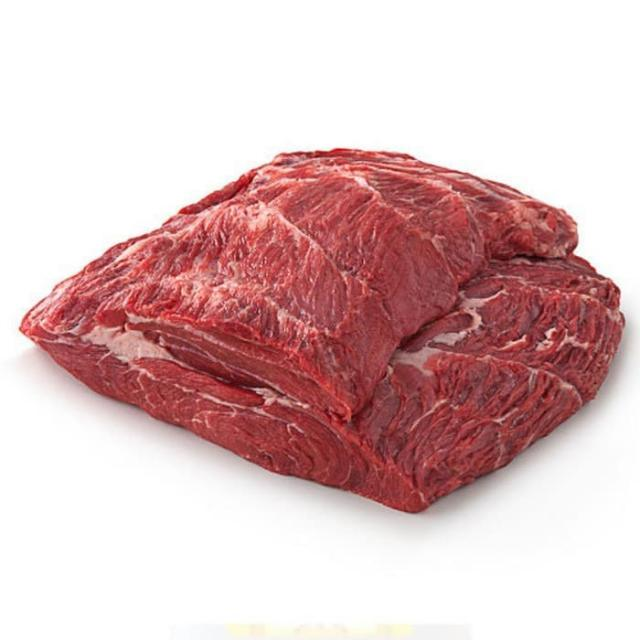Beef: (15, 108, 637, 508)
